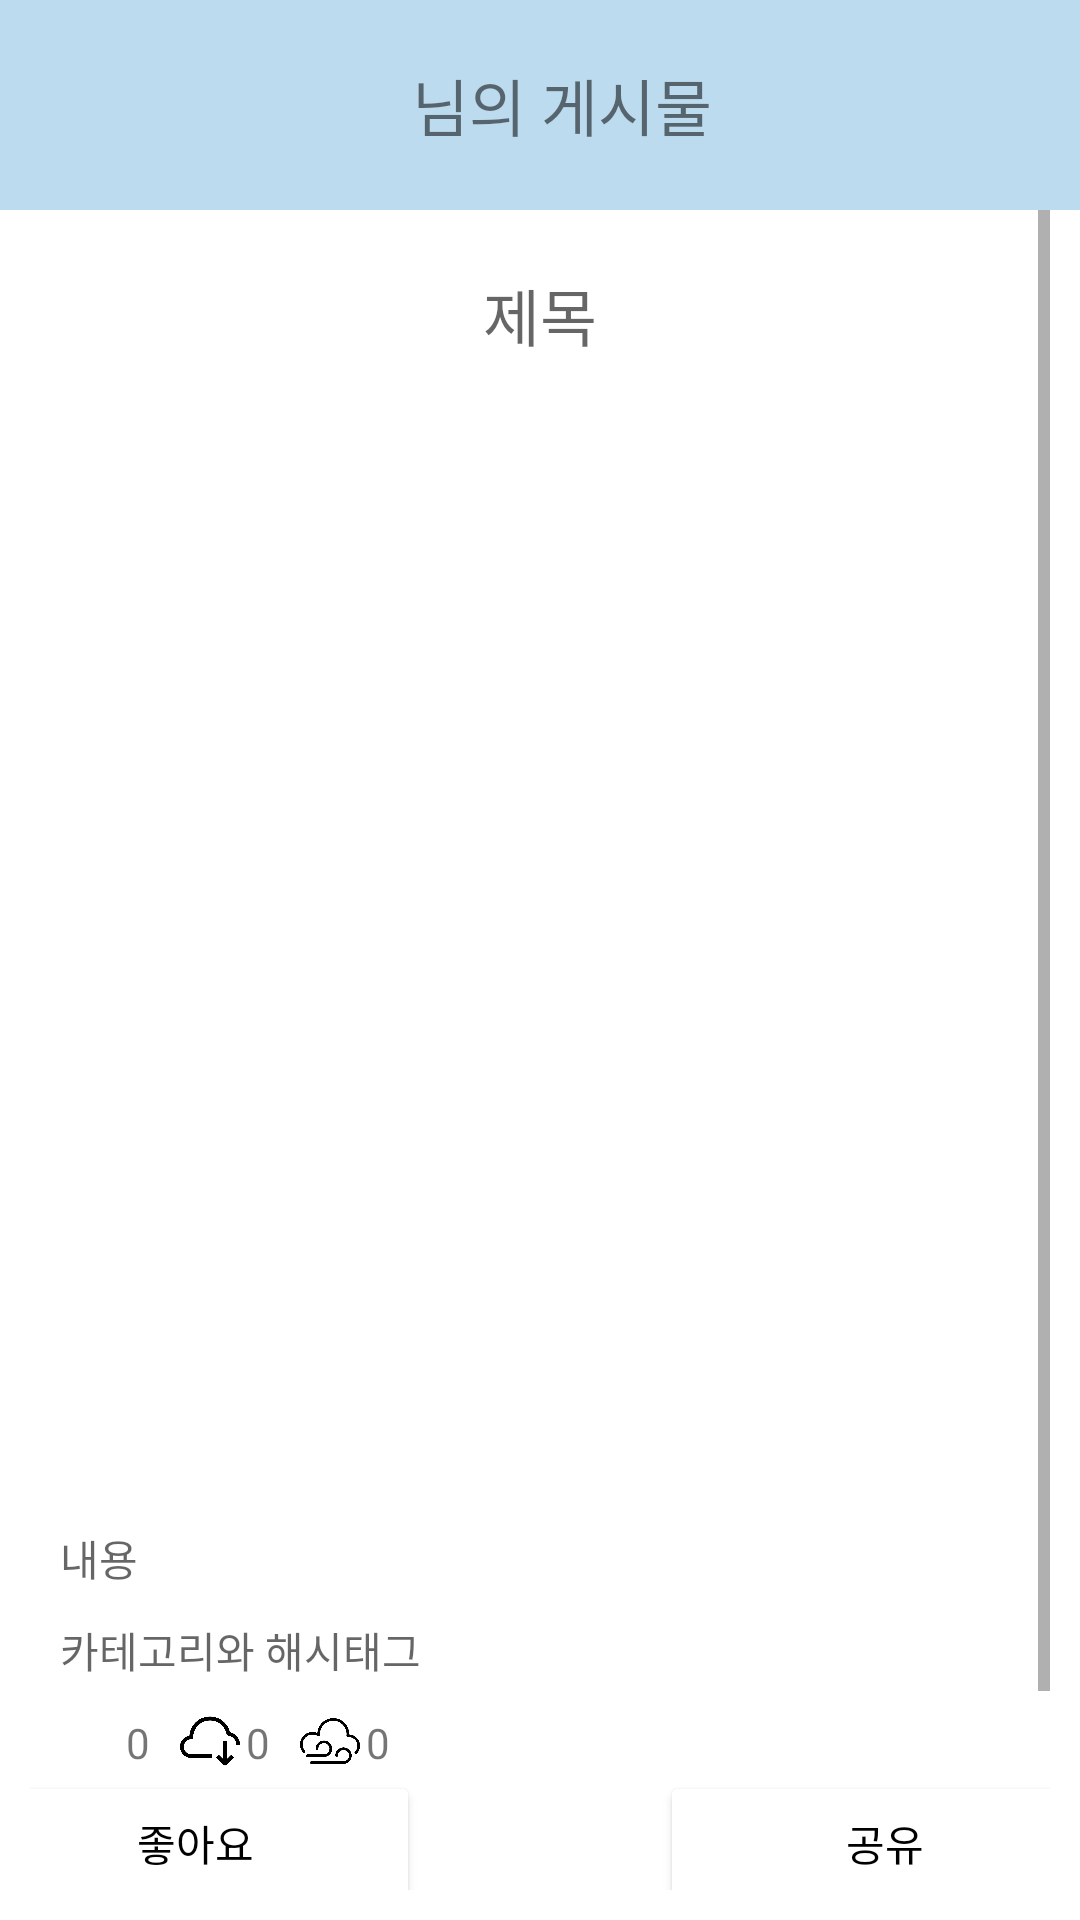

Icons on this 1080 x 1920 Android screen, each with its box as (x1, y1, x2, y2):
download: (180, 1716, 240, 1766)
